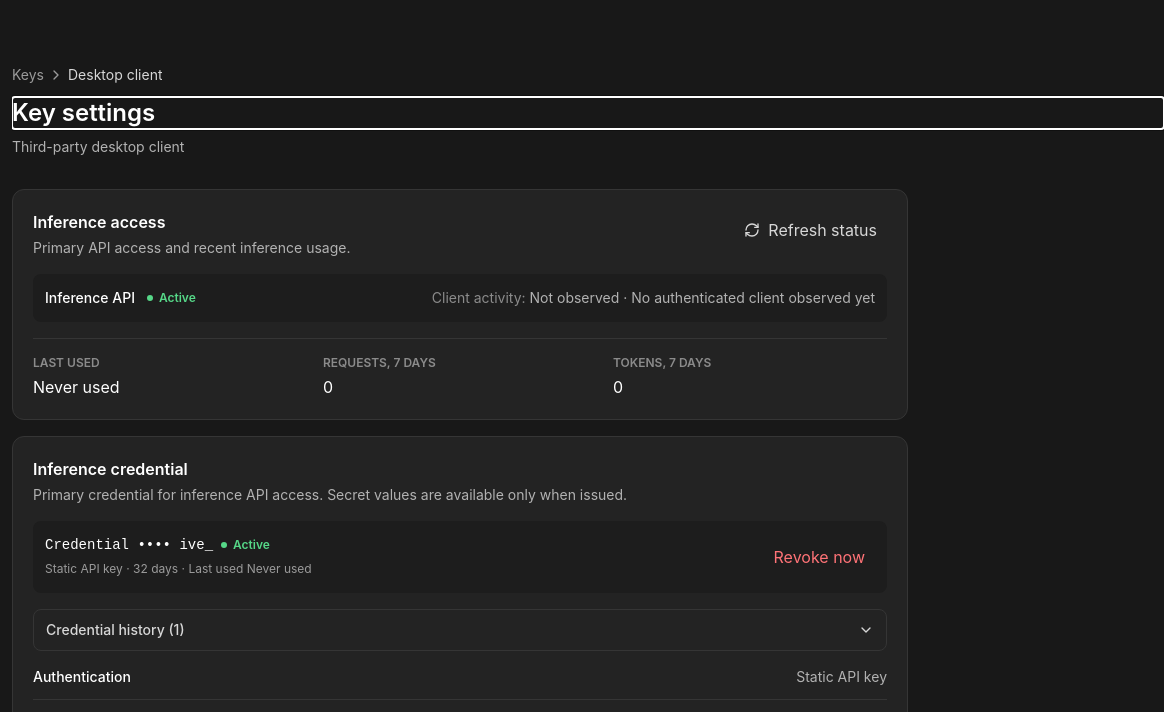
Test: Keys experience › shows concise immutable metadata and revoked history only when present
Check: the heading "Key settings" is shown, box x1=12 y1=98 x2=155 y2=127
Check: the list item "Desktop client" is shown, box x1=68 y1=65 x2=162 y2=85
Click the heading "Credential history (1)".
click(110, 630)  # box x1=46 y1=621 x2=874 y2=638
(page scrolled)
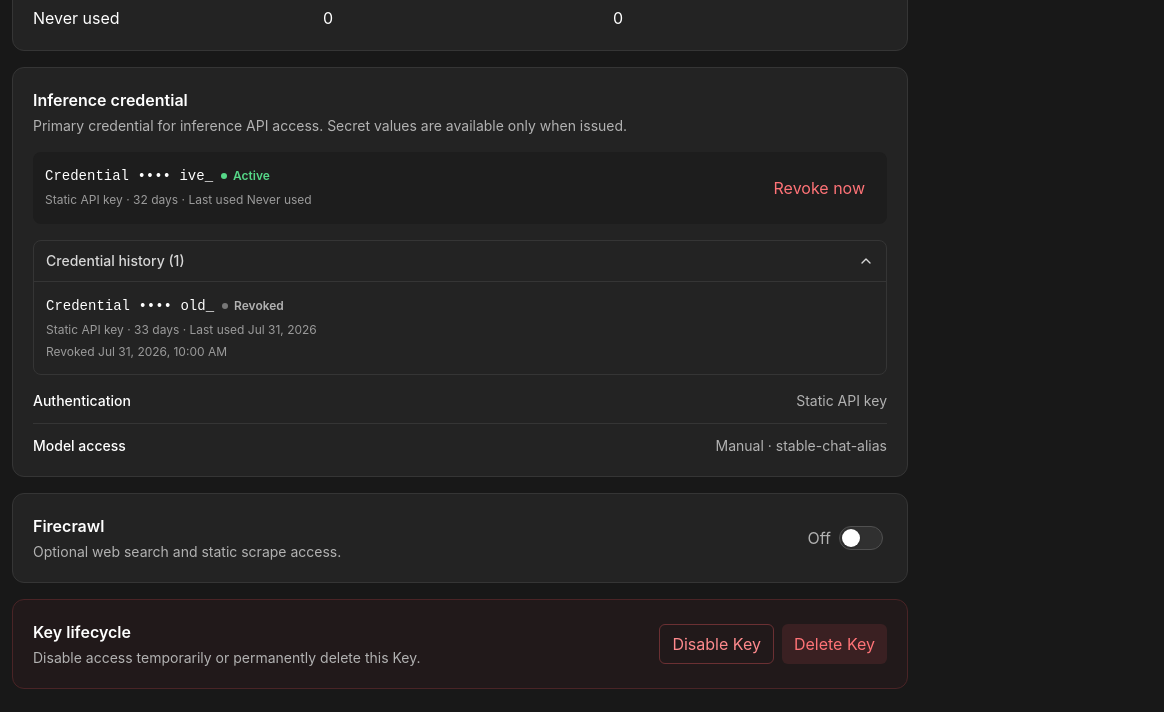
Check: the text "Revoked Jul 31, 2026, 10:00 AM" is shown, box x1=46 y1=344 x2=227 y2=359
